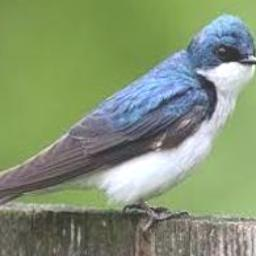Swallow: (0, 11, 256, 223)
